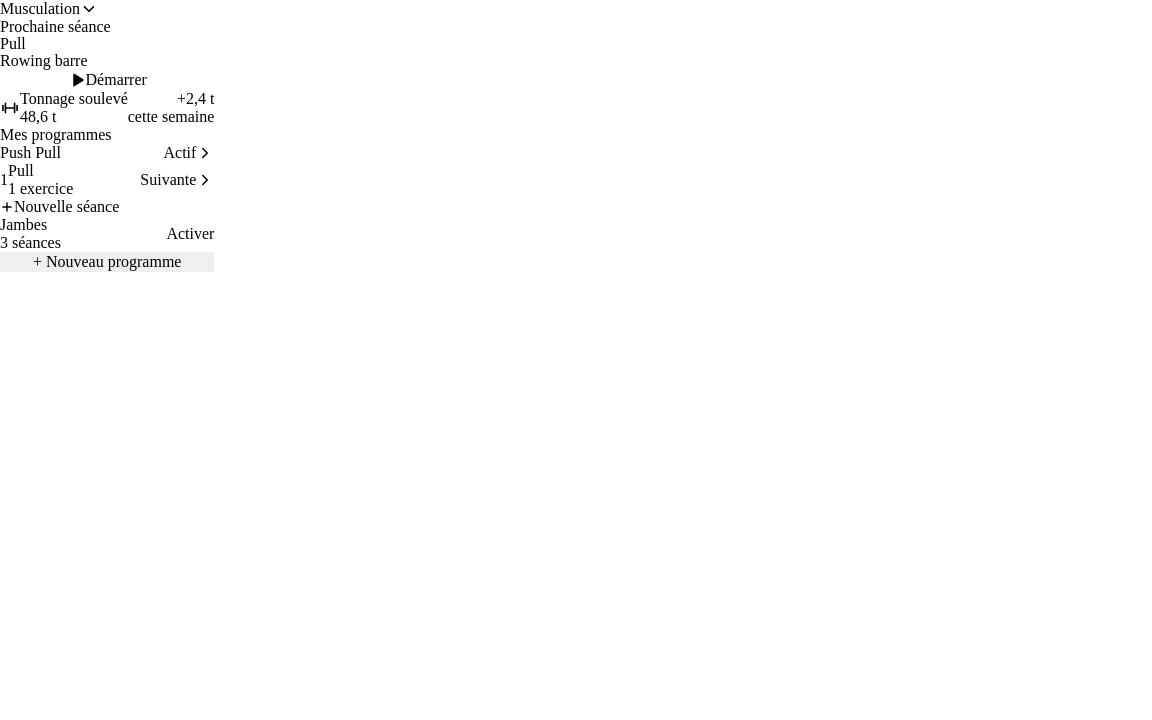
Test: Accueil › shows the active program on top with its séances, the others below with Activer
Expected: the text "Suivante" is shown, x1=140 y1=171 x2=196 y2=189
Click the button with aria-label "Activer Jambes".
click(190, 234)  # box x1=166 y1=225 x2=214 y2=243
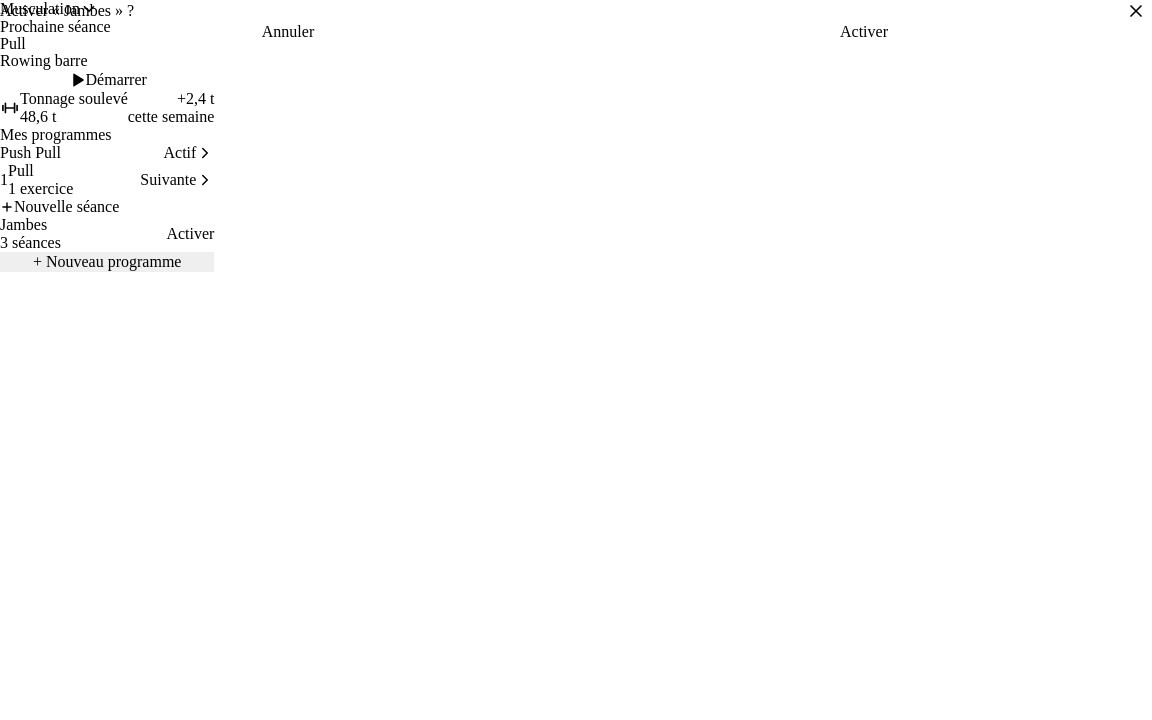
Click the button "Annuler".
click(288, 32)  # box x1=0 y1=22 x2=576 y2=42
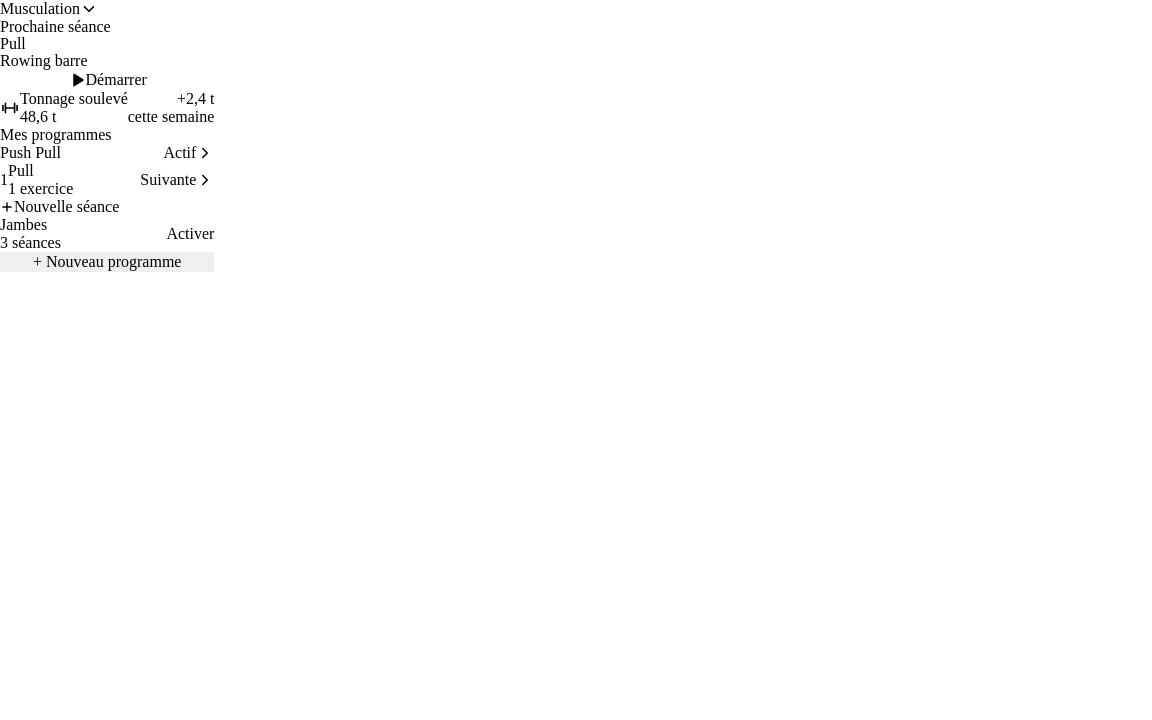
Click the button with aria-label "Activer Jambes".
click(190, 234)  # box x1=166 y1=225 x2=214 y2=243
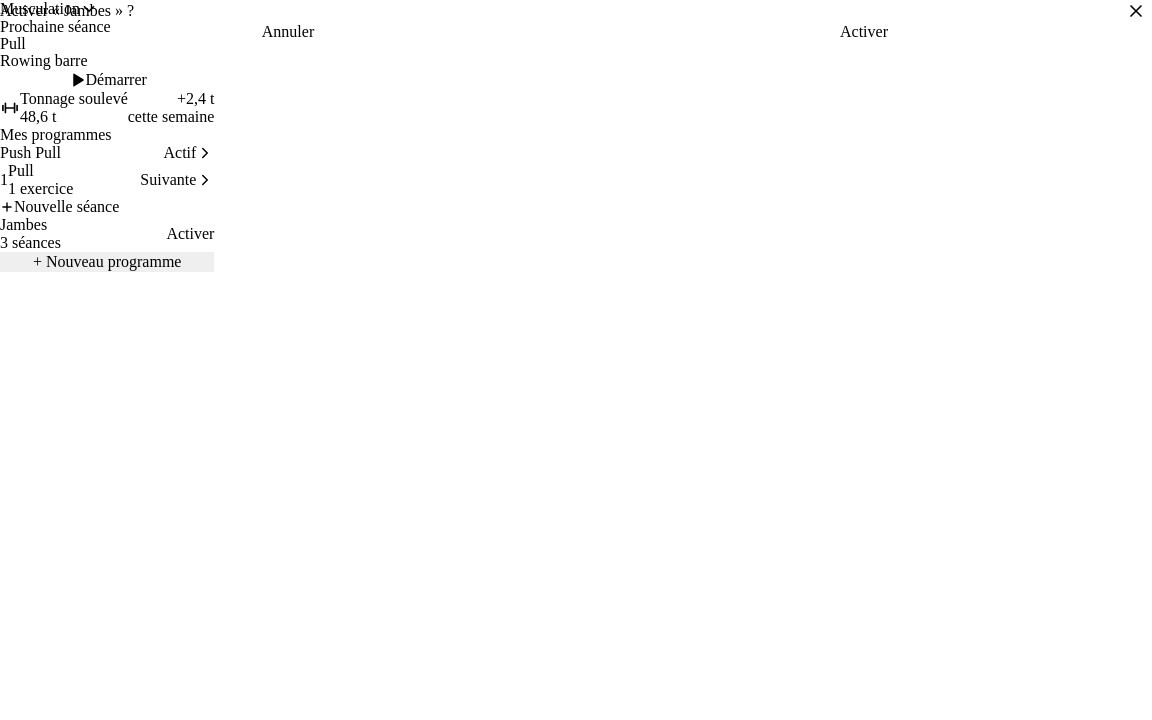
Click the button "Activer".
click(864, 32)  # box x1=576 y1=22 x2=1151 y2=42
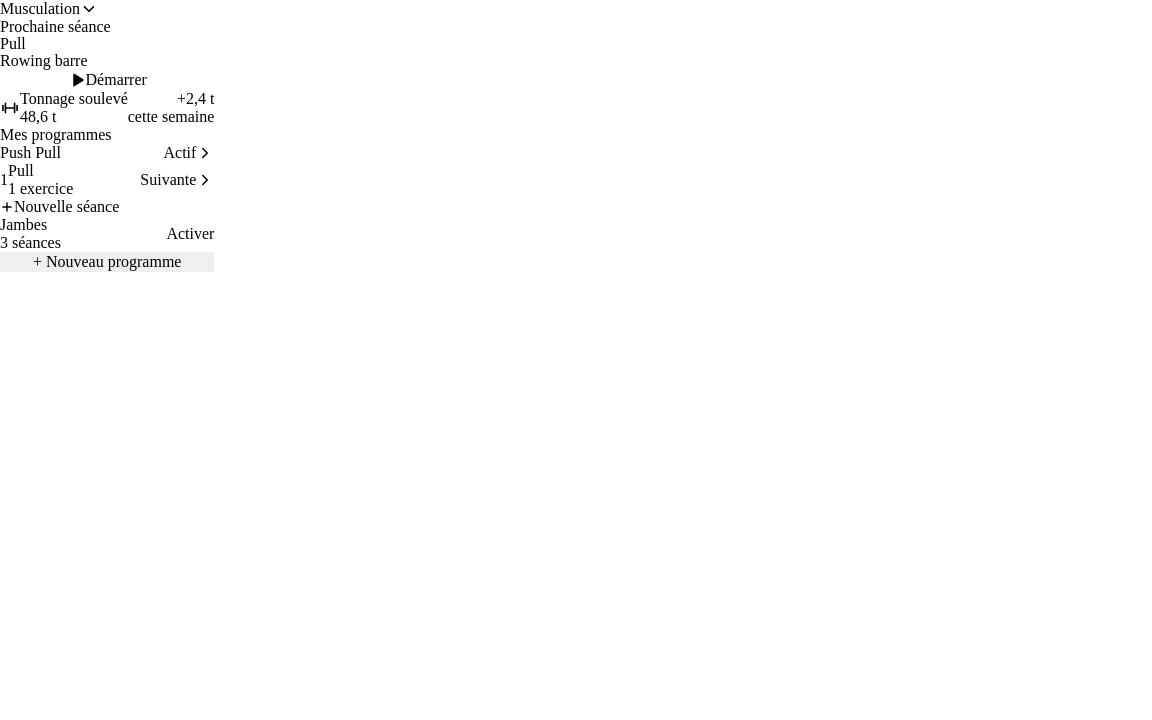
Expected: the dialog is gone
